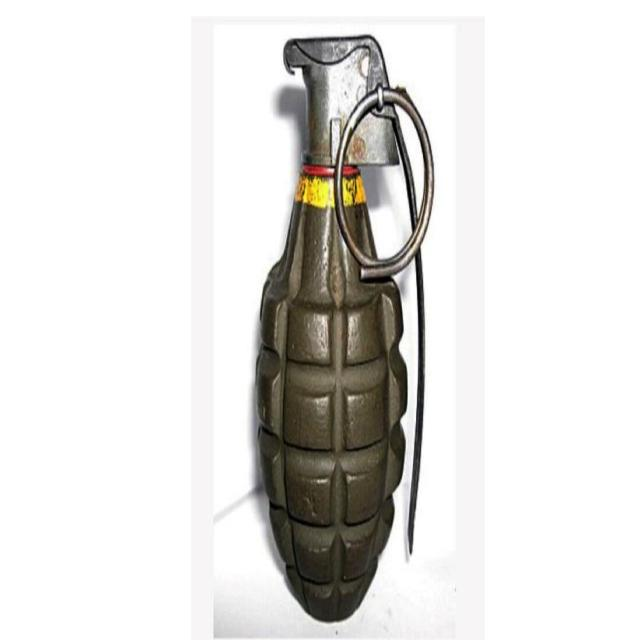grenade: (255, 40, 435, 624)
